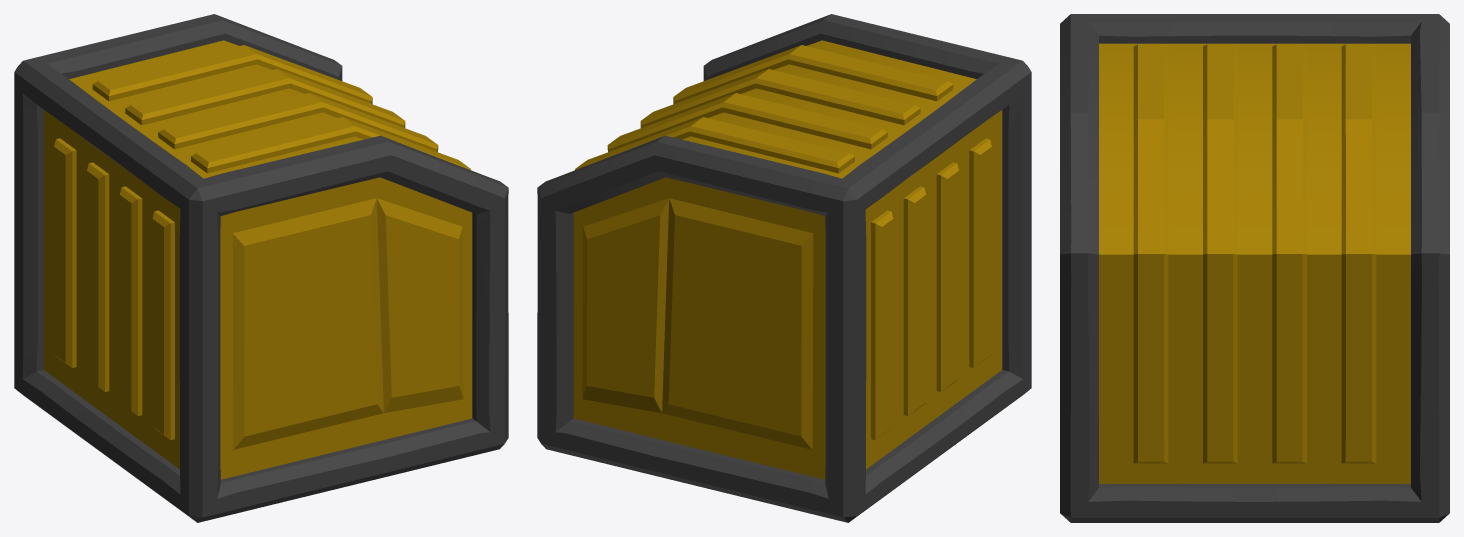
The model's file is CargoSmall.fbx.
3 renders of one model, left to right at view 1: azimuth 30°, elevation 25°; view 2: azimuth 150°, elevation 25°; view 3: azimuth 270°, elevation 25°, orthographic. The views are drawn at different scales.
Parts seen in each view (by area): view 1: Crate8; view 2: Crate8; view 3: Crate8.
Part boxes in pixels (left/top/right/bottom): Crate8: left=14, top=14, right=508, bottom=522; Crate8: left=537, top=14, right=1031, bottom=522; Crate8: left=1060, top=14, right=1449, bottom=522.
Size of the model in its own units: 120 by 120 by 120.
